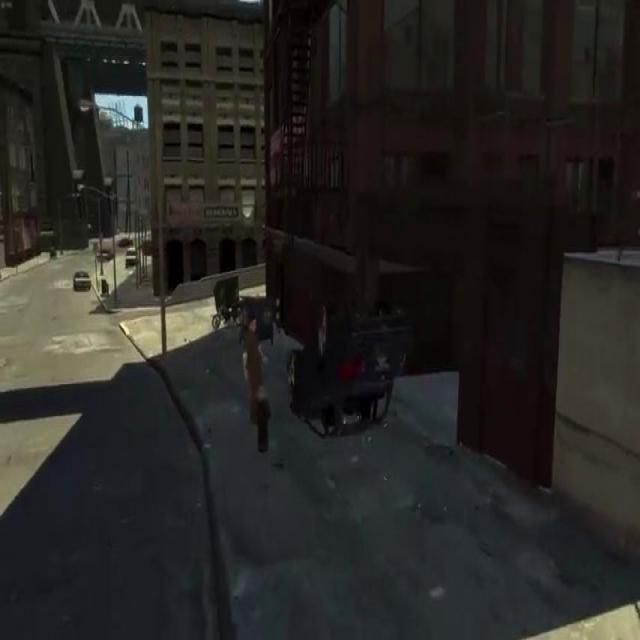severe: (278, 292, 417, 437)
